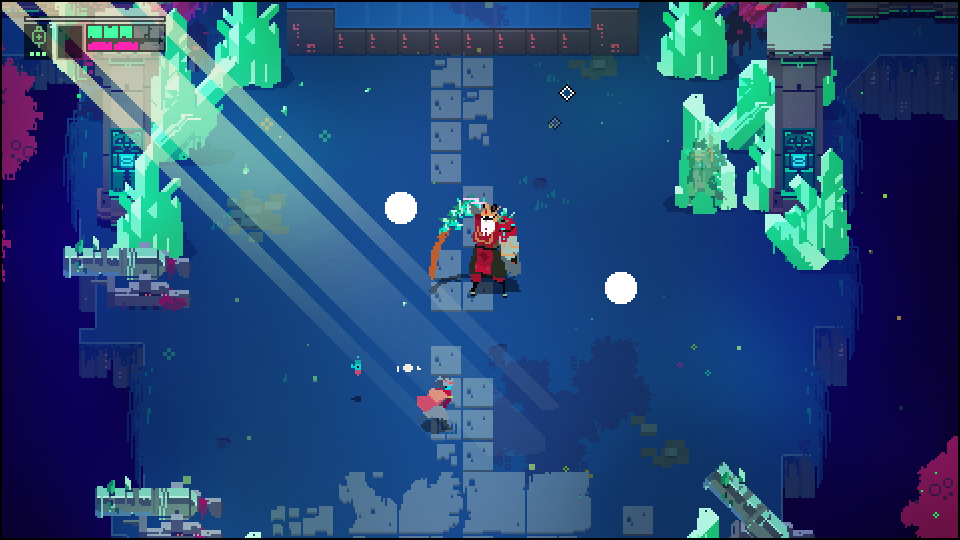hanged_man: (430, 200, 523, 298)
player: (416, 376, 457, 429)
